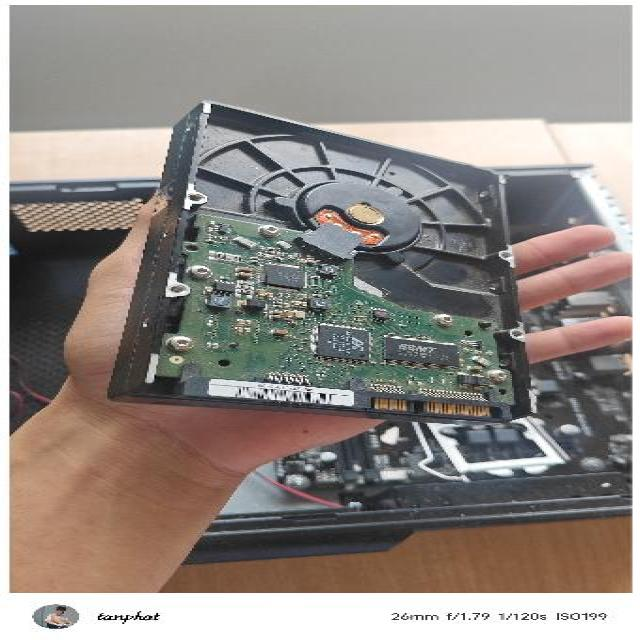DISK: (102, 92, 538, 423)
